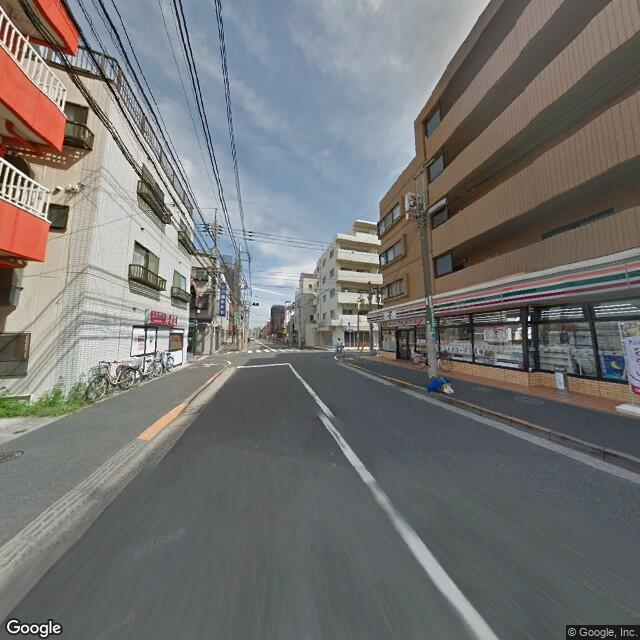7-eleven: (364, 257, 639, 326)
